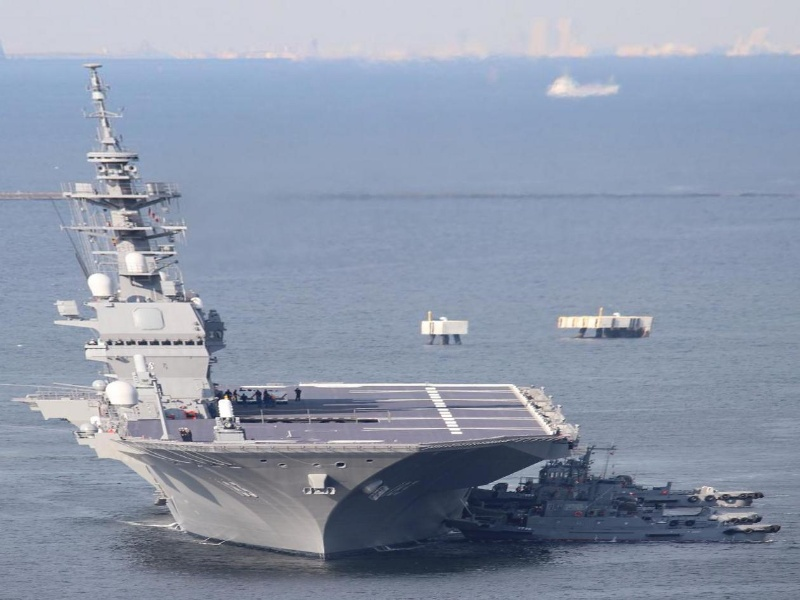carrier: (64, 76, 560, 567)
cruise: (513, 496, 777, 544), (527, 464, 751, 507)
